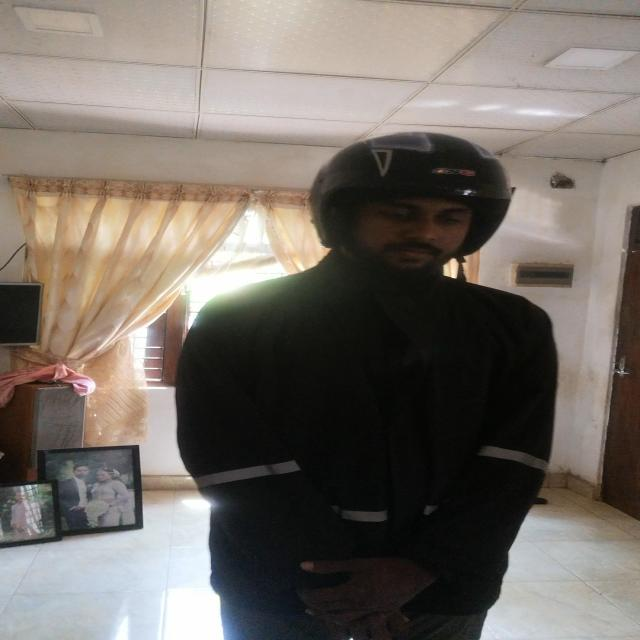Helmet_Wearer: (296, 122, 529, 306)
Jacket_Wearer: (157, 260, 564, 628)
Person: (155, 125, 556, 640)
